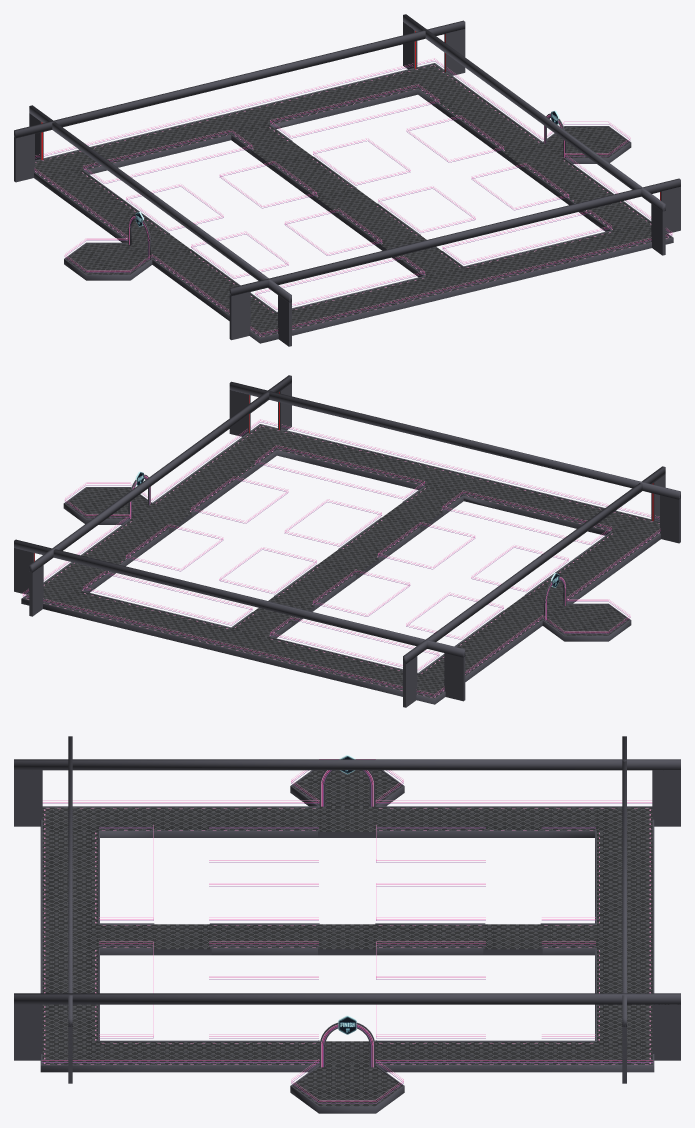
Rendered from map9.glb.
3 views of the same model, one above another, from view 1: azimuth 30°, elevation 25°; view 2: azimuth 150°, elevation 25°; view 3: azimuth 270°, elevation 25° (orthographic). The views are drawn at different scales.
Parts seen in each view (by area): view 1: Cube.018, Cube.019, Platform1_3.003, Platform1_3.004, StartArea, Platform1_4.002, Platform1_2.001, Platform1_2.003, Platform1_2.005, Platform1_4.001, Cube.016, Cube.017 (+33 smaller); view 2: Cube.018, Cube.019, Platform1_3.004, Platform1_3.003, StartArea, Platform1_4.001, Platform1_2.001, Platform1_2.004, Platform1_2.003, Platform1_4.002, Cube.016, Cube.017 (+33 smaller); view 3: Cube.016, Cube.017, Platform1_2.003, Platform1_2.005, Platform1_2.004, Platform1_2.002, FinishArea, Platform1_2.001, Platform1_4.001, Platform1_4.002, Platform1_4.004, Platform1_4.003 (+26 smaller).
Boxes of the visible parts, x1=… form: Cube.018: x1=229, y1=178, x2=680, y2=296; Cube.019: x1=14, y1=20, x2=465, y2=138; Platform1_3.003: x1=388, y1=253, x2=522, y2=306; Platform1_3.004: x1=172, y1=95, x2=307, y2=148; StartArea: x1=64, y1=212, x2=152, y2=280; Platform1_4.002: x1=359, y1=58, x2=478, y2=109; Platform1_2.001: x1=482, y1=123, x2=585, y2=188; Platform1_2.003: x1=295, y1=168, x2=398, y2=233; Platform1_2.005: x1=231, y1=120, x2=334, y2=186; Platform1_4.001: x1=575, y1=201, x2=673, y2=261; Cube.016: x1=403, y1=14, x2=665, y2=211; Cube.017: x1=29, y1=105, x2=291, y2=302; Cube.018: x1=229, y1=381, x2=680, y2=499; Cube.019: x1=14, y1=539, x2=465, y2=657; Platform1_3.004: x1=172, y1=614, x2=306, y2=667; Platform1_3.003: x1=387, y1=456, x2=522, y2=509; StartArea: x1=542, y1=573, x2=631, y2=641; Platform1_4.001: x1=217, y1=419, x2=335, y2=470; Platform1_2.001: x1=109, y1=483, x2=212, y2=549; Platform1_2.004: x1=360, y1=481, x2=463, y2=547; Platform1_2.003: x1=296, y1=529, x2=399, y2=595; Platform1_4.002: x1=21, y1=562, x2=119, y2=621; Cube.016: x1=29, y1=375, x2=291, y2=572; Cube.017: x1=403, y1=466, x2=665, y2=663; Cube.016: x1=14, y1=993, x2=680, y2=1004; Cube.017: x1=14, y1=759, x2=680, y2=770; Platform1_2.003: x1=264, y1=917, x2=430, y2=955; Platform1_2.005: x1=429, y1=917, x2=595, y2=955; Platform1_2.004: x1=99, y1=917, x2=264, y2=955; Platform1_2.002: x1=264, y1=800, x2=430, y2=837; FinishArea: x1=290, y1=1015, x2=404, y2=1113; Platform1_2.001: x1=264, y1=1034, x2=430, y2=1072; Platform1_4.001: x1=40, y1=1018, x2=153, y2=1072; Platform1_4.002: x1=541, y1=1018, x2=654, y2=1072; Platform1_4.004: x1=40, y1=800, x2=153, y2=854; Platform1_4.003: x1=541, y1=800, x2=654, y2=854.
Size of what is drawn, in the model's own units: 87.53 by 7.8 by 72.19.
4 materials, 4 textured.
